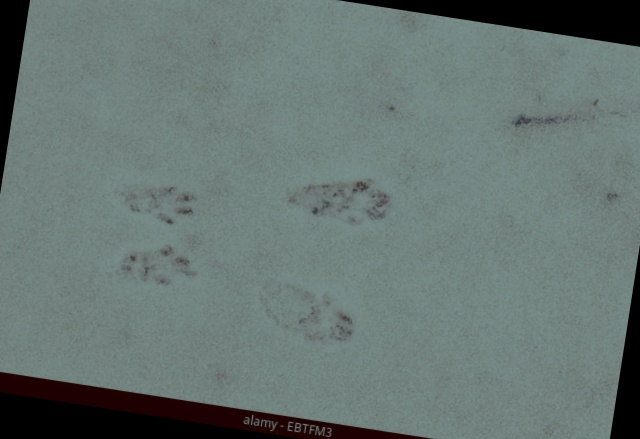ecureuil: (260, 268, 376, 358), (277, 166, 397, 231), (113, 261, 216, 322), (101, 197, 205, 257)
